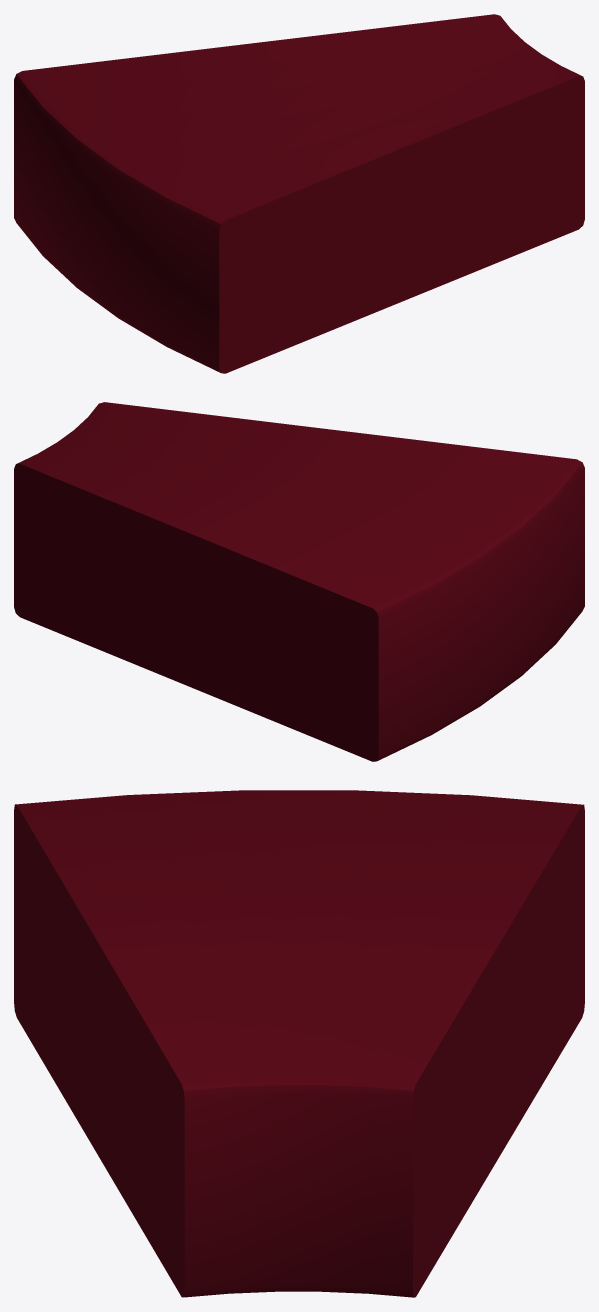
File: Middle_Low.fbx
The picture shows the model from 3 angles, top to bottom: view 1: azimuth 30°, elevation 25°; view 2: azimuth 150°, elevation 25°; view 3: azimuth 270°, elevation 25°; orthographic projection. The views are drawn at different scales.
Parts seen in each view (by area): view 1: Midle_low; view 2: Midle_low; view 3: Midle_low.
Part boxes in pixels (<box>): Midle_low: <box>14,14,584,373</box>; Midle_low: <box>14,402,584,761</box>; Midle_low: <box>14,790,584,1297</box>.
Size of what is drawn, in the model's own units: 61.09 by 20 by 48.6.
